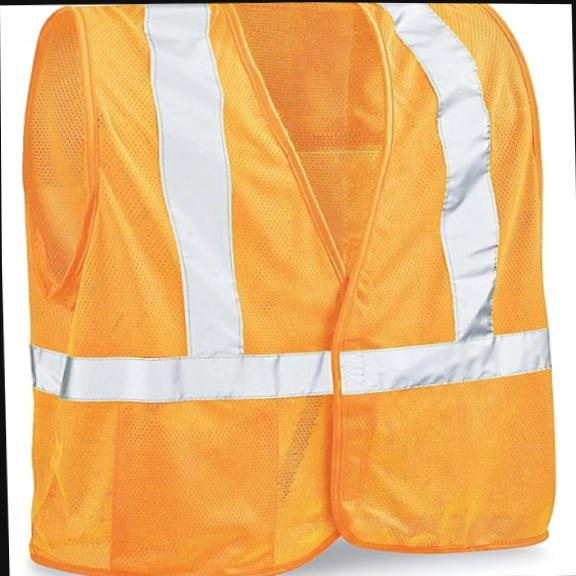safety_vest: (15, 0, 560, 576)
